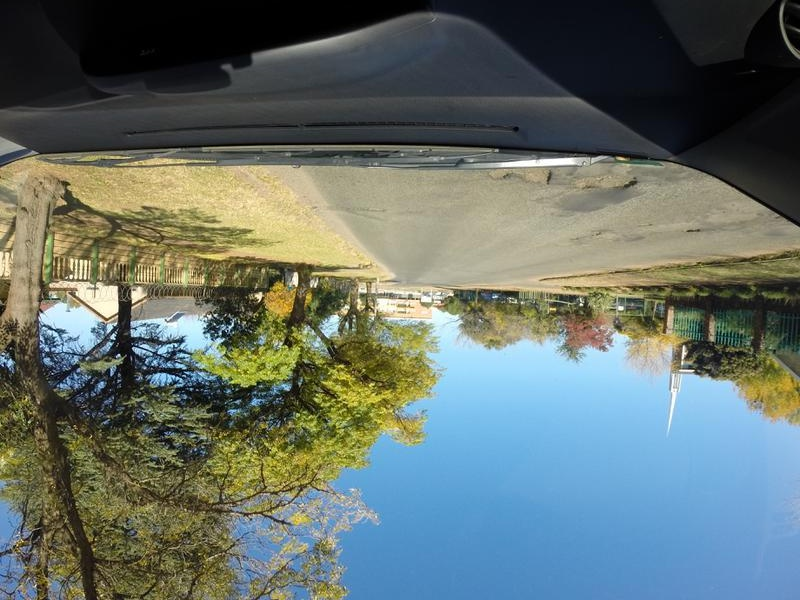pothole: (574, 171, 661, 188), (485, 167, 559, 181), (323, 202, 396, 210), (683, 228, 706, 233), (592, 230, 604, 238), (573, 235, 584, 242), (640, 224, 662, 226)
